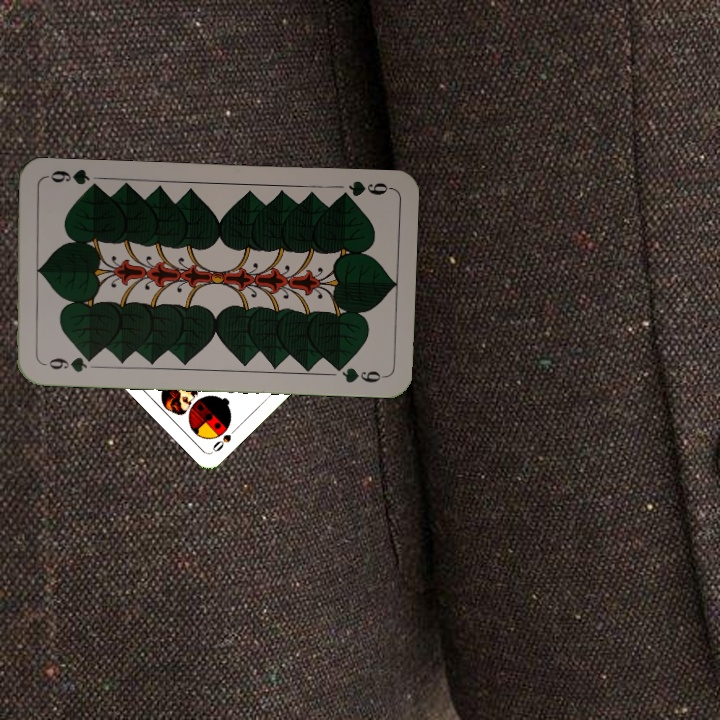G9: (333, 176, 393, 202), (37, 352, 97, 375)
SO: (208, 423, 240, 455)
